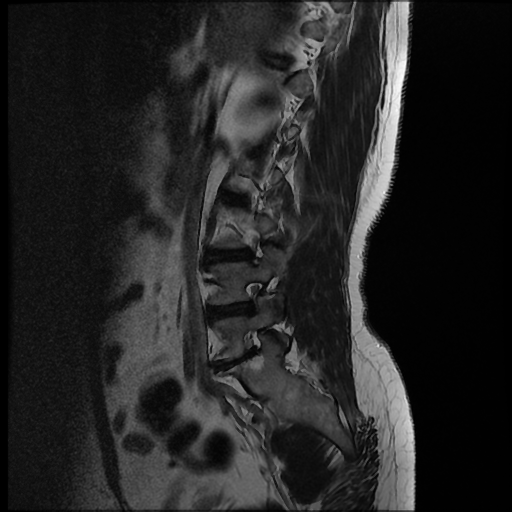RFS0: (236, 274, 271, 320)
